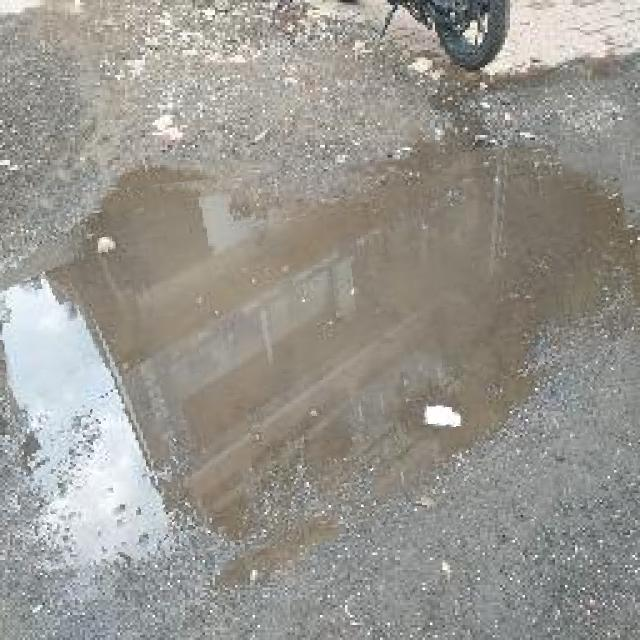puddle: (1, 153, 640, 559)
